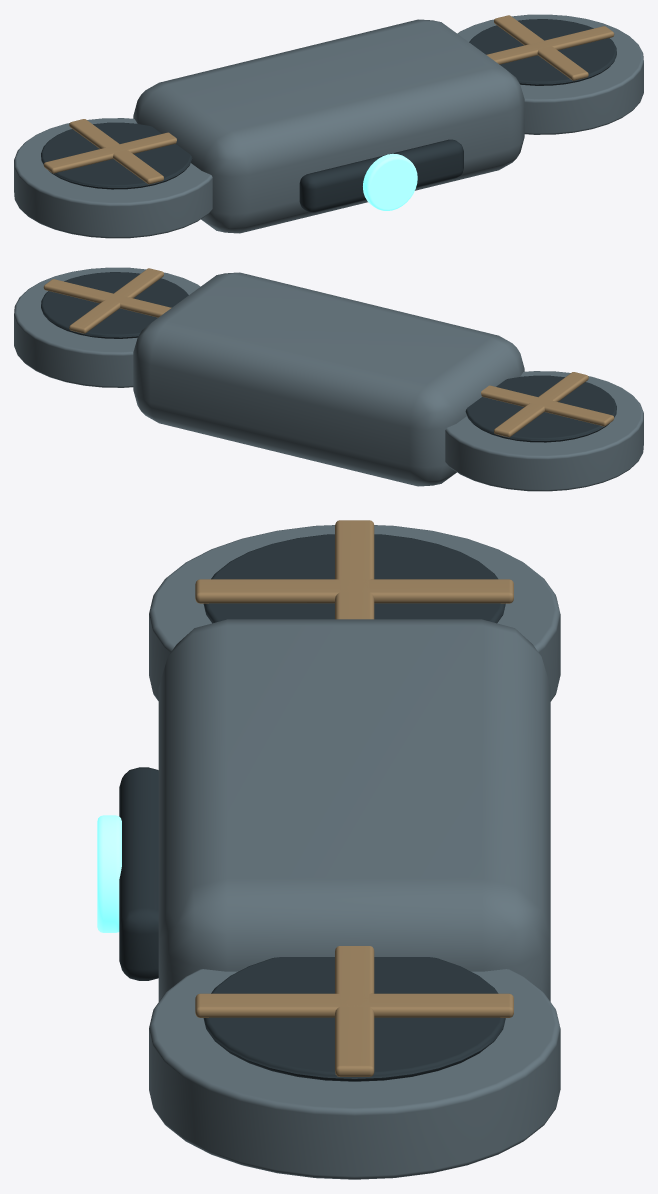
The model's file is drone.glb.
The picture shows the model from 3 angles, top to bottom: view 1: azimuth 30°, elevation 25°; view 2: azimuth 150°, elevation 25°; view 3: azimuth 270°, elevation 25°; orthographic projection. The views are drawn at different scales.
Parts seen in each view (by area): view 1: drone_metal, drone_dark, drone_bronze, drone_cyan; view 2: drone_metal, drone_dark, drone_bronze; view 3: drone_metal, drone_dark, drone_bronze, drone_cyan.
Boxes of the visible parts, bbox=[...] form: drone_metal: bbox=[14, 14, 643, 238]; drone_dark: bbox=[41, 19, 616, 212]; drone_bronze: bbox=[43, 15, 614, 184]; drone_cyan: bbox=[363, 153, 417, 210]; drone_metal: bbox=[14, 267, 643, 491]; drone_dark: bbox=[41, 272, 616, 442]; drone_bronze: bbox=[43, 268, 614, 437]; drone_metal: bbox=[149, 525, 560, 1179]; drone_dark: bbox=[119, 534, 505, 1081]; drone_bronze: bbox=[195, 520, 513, 1076]; drone_cyan: bbox=[97, 815, 121, 932].
Bounding box in the file's own units: 2.84 × 0.45 × 0.945.
